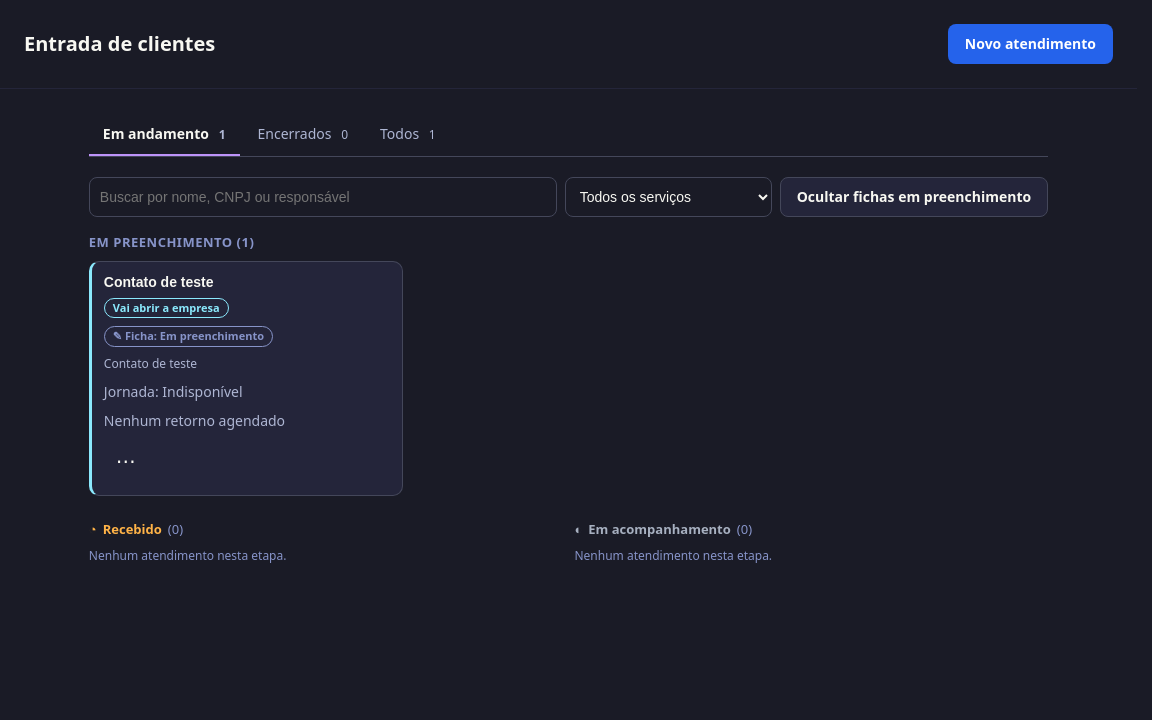
Test: exclusão confirmada atualiza lista e contador sem releitura
This screenshot has width=1152, height=720.
Click the button named "Ações de Contato de teste" at [126, 460], box top-left (104, 438), bottom-right (148, 482)
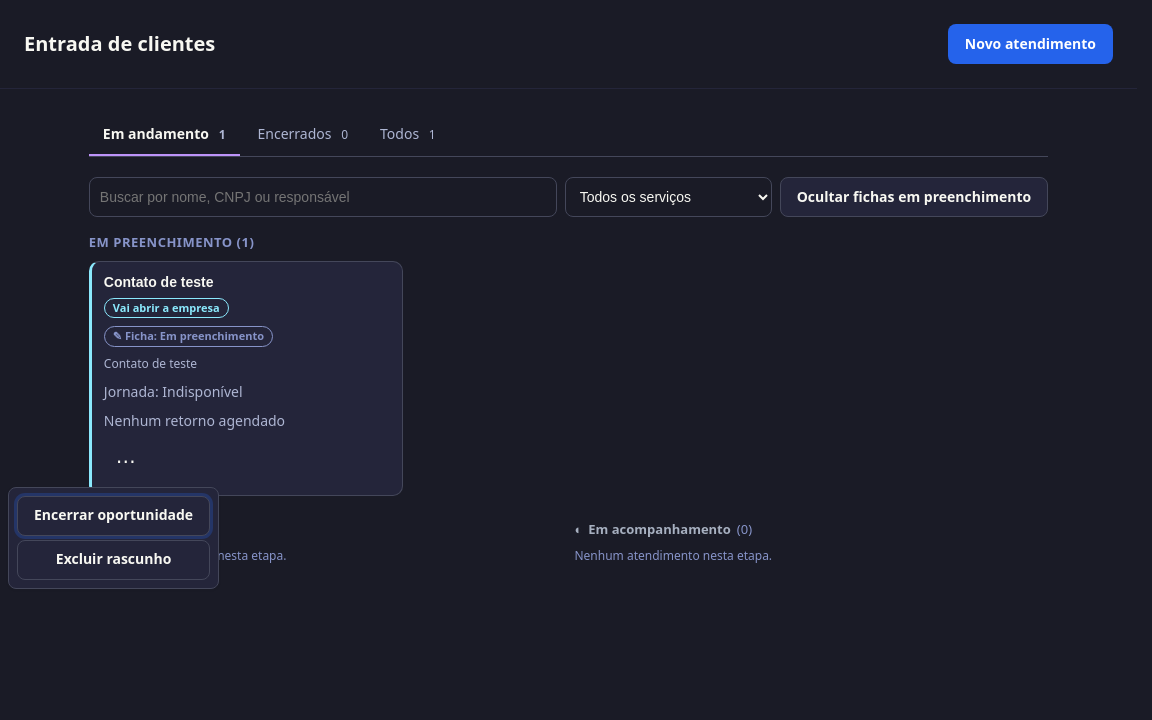
Click the menu item "Excluir rascunho" at [114, 560], box top-left (17, 540), bottom-right (210, 580)
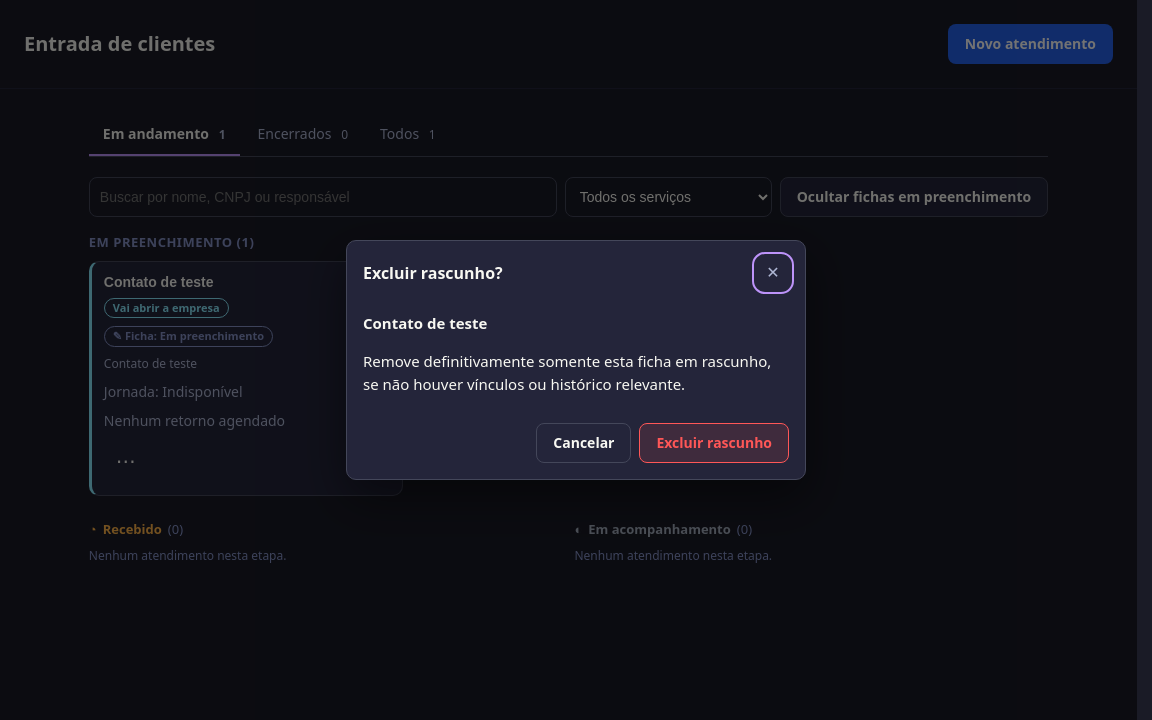
Expected: the button "Excluir rascunho" is enabled
Click the button "Excluir rascunho" at [714, 443], box top-left (640, 423), bottom-right (789, 463)
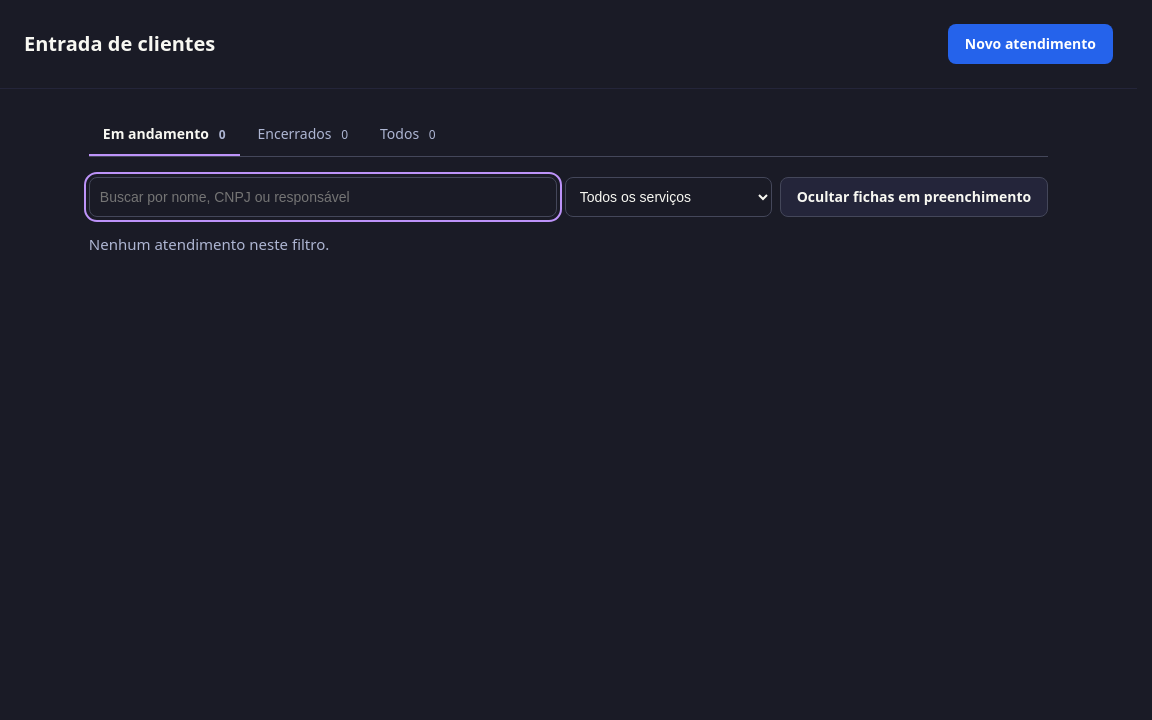
Expected: the dialog is gone
Expected: the button "Contato de teste" is gone
Expected: the button "Em andamento 0" is shown, top-left (89, 113), bottom-right (240, 156)
